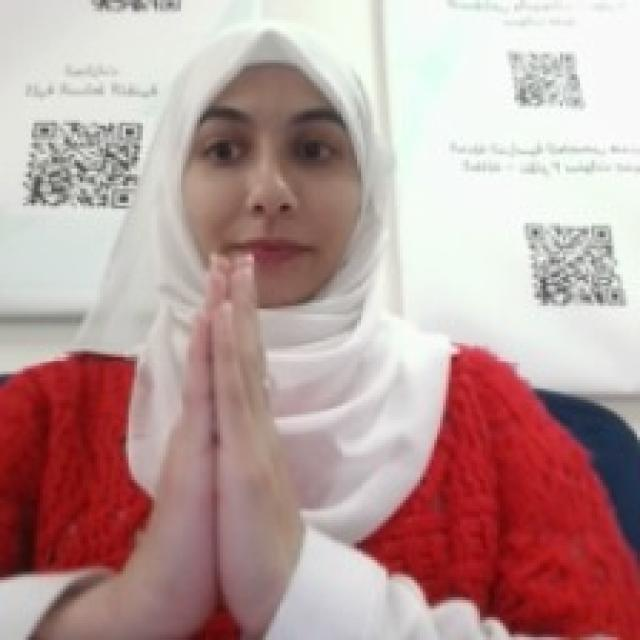sorry: (140, 280, 311, 634)
